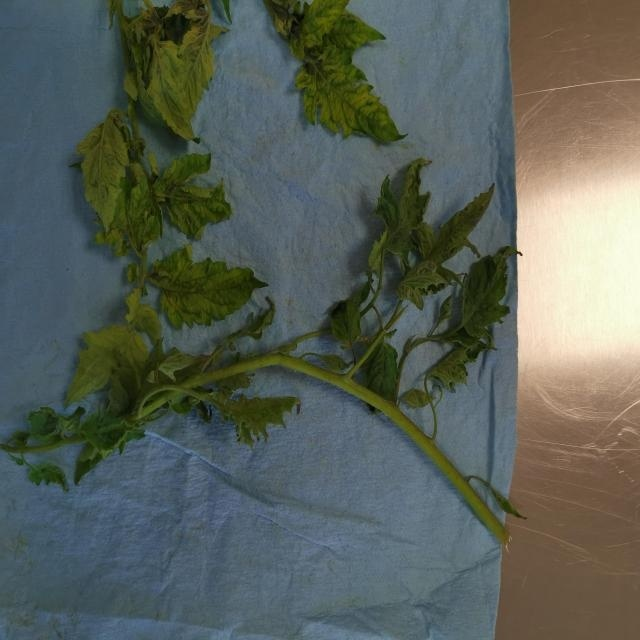T_L_R: (297, 46, 406, 143), (150, 247, 261, 327), (77, 111, 131, 233), (376, 159, 432, 258), (179, 8, 227, 118), (429, 186, 495, 266), (66, 328, 127, 408), (219, 394, 300, 449), (147, 41, 192, 138), (167, 181, 234, 241), (464, 256, 511, 339), (290, 1, 350, 61), (110, 334, 149, 414), (331, 281, 373, 349), (325, 11, 386, 53), (397, 261, 447, 311), (81, 413, 130, 459), (227, 298, 276, 343), (365, 341, 401, 401), (160, 154, 212, 193), (430, 348, 469, 391), (160, 349, 197, 383), (27, 408, 60, 444), (30, 464, 70, 493), (136, 304, 162, 346), (370, 241, 384, 278)
T_S_R: (220, 352, 511, 547), (25, 436, 86, 454), (1, 444, 22, 456)
